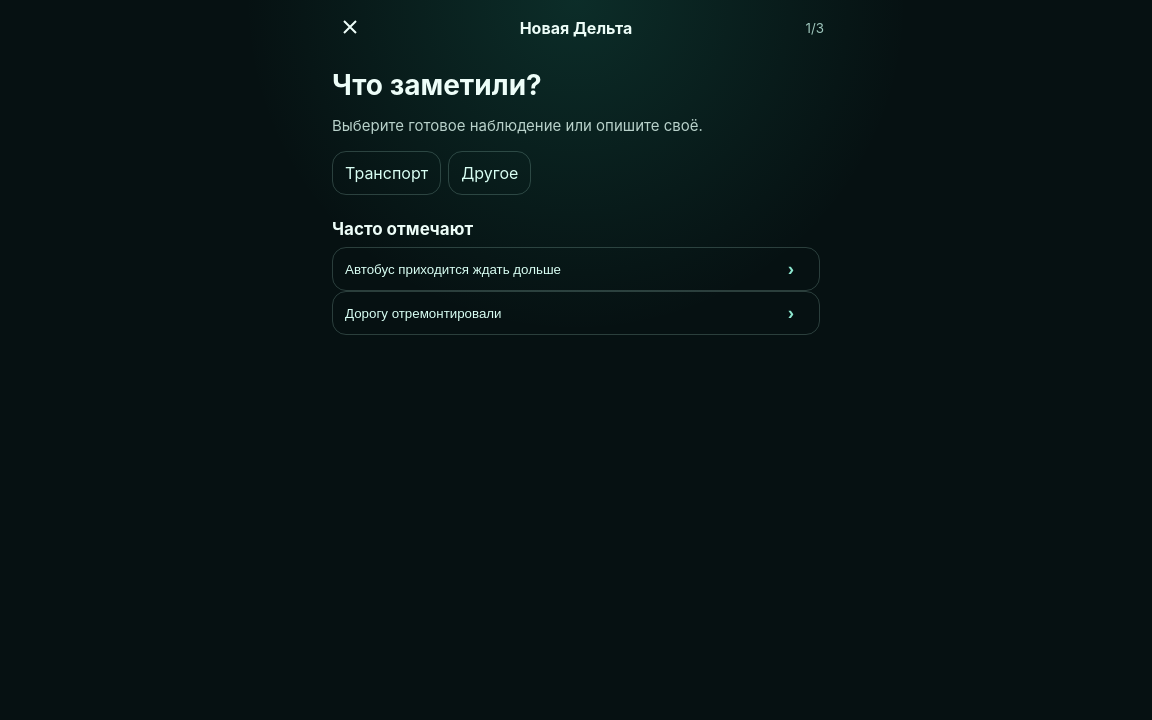
Test: MobileDeltaCreateFlow observation controller › redirects an incomplete direct review and supports header Back across stages
expect the heading "Что заметили?" is shown: met, box [332,68,542,102]
Click the button "Автобус приходится ждать дольше ›".
click(453, 269)  # box [332,247,820,291]
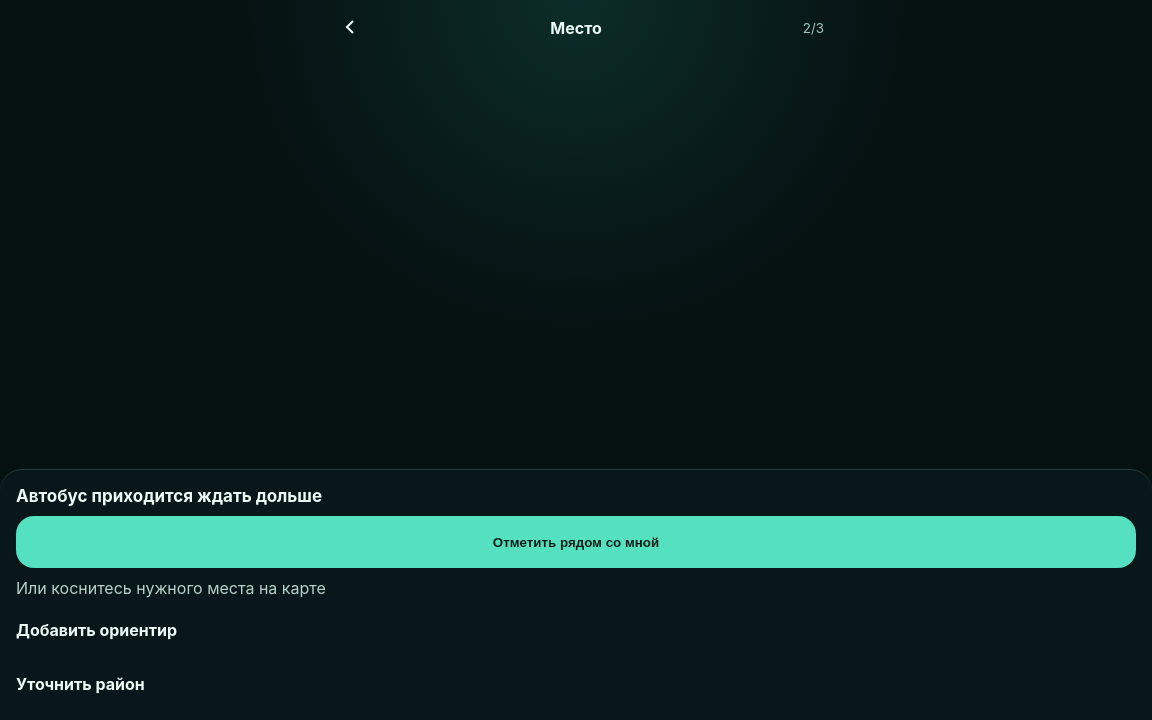
Click the button named "Назад".
click(350, 28)  # box [328,6,372,50]
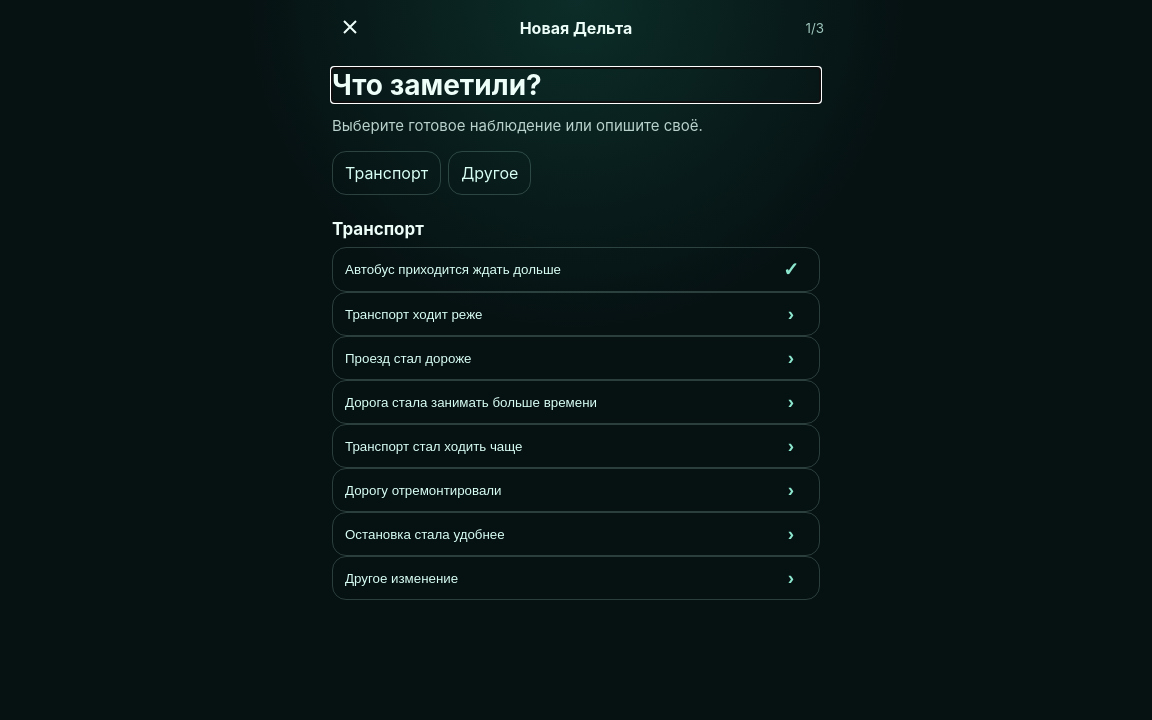
expect the heading "Что заметили?" is shown: met, box [332,68,542,102]
